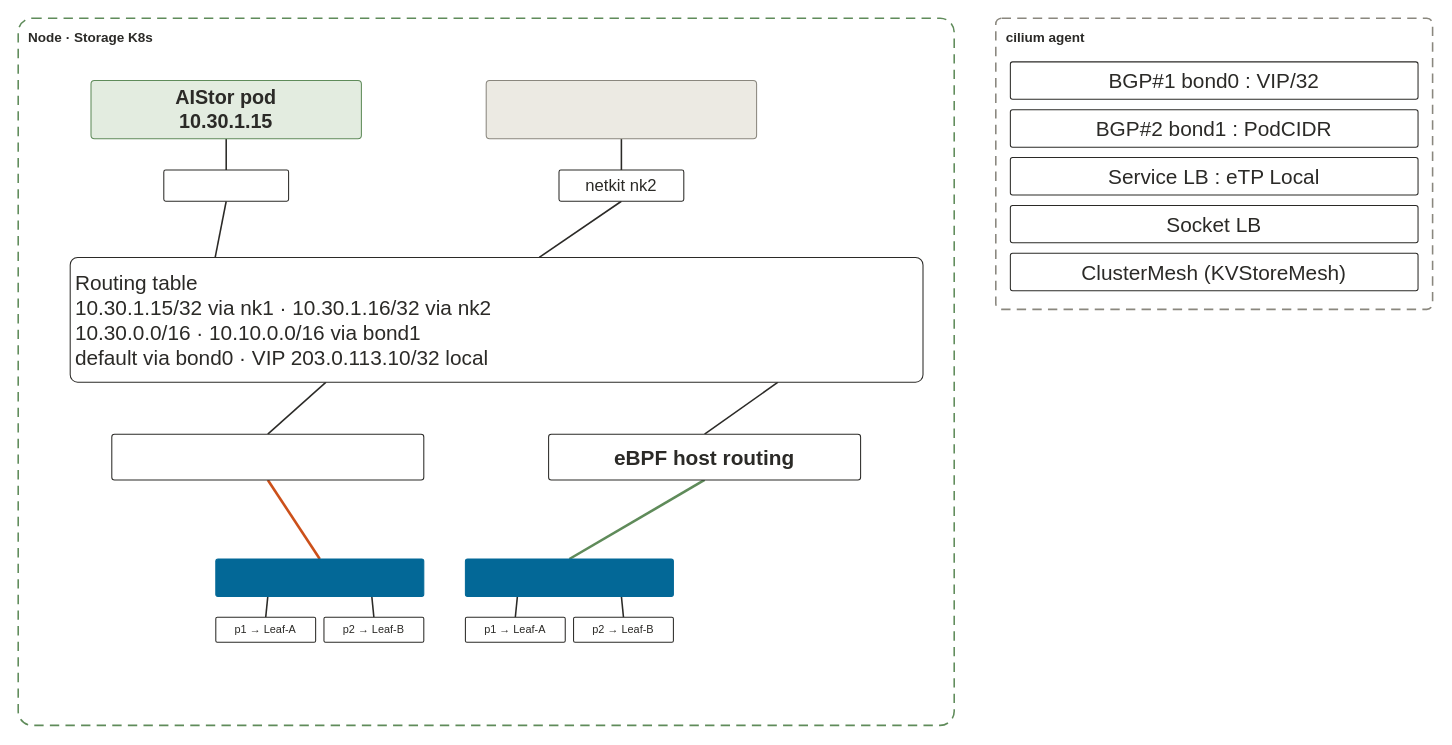
The diagram is 1452 pixels wide and 745 high, and some of its shapes have lost their labels. The centre of each missing label's shape, as x and y in pixels:
"bond0 · PUBLIC" belongs at pixel 319 577.
"bond1 · PRIVATE" belongs at pixel 568 577.
"eBPF LB (XDP · tc)" belongs at pixel 267 456.
"netkit nk1" belongs at pixel 226 185.
"other pod 10.30.1.16" belongs at pixel 621 109.
